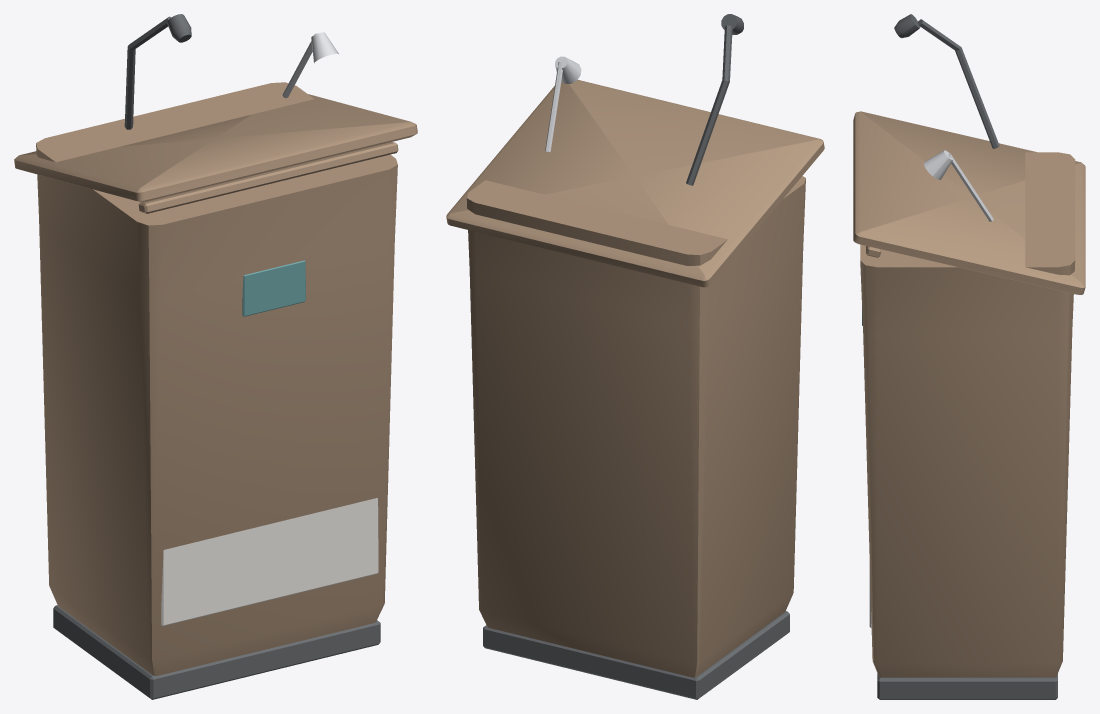
Rendered from hotel-and-resort-operations-lectern-e76bf2c8__25912.glb.
3 views of the same model, side by side, from view 1: azimuth 30°, elevation 25°; view 2: azimuth 150°, elevation 25°; view 3: azimuth 270°, elevation 25° (orthographic). The views are drawn at different scales.
Visible parts, largest first — view 1: lectern; view 2: lectern; view 3: lectern.
Part boxes in pixels (left/top/right/bottom): lectern: left=14, top=14, right=417, bottom=699; lectern: left=446, top=14, right=824, bottom=699; lectern: left=853, top=14, right=1085, bottom=699.
Bounding box in the file's own units: 0.62 × 1.4 × 0.4886.
